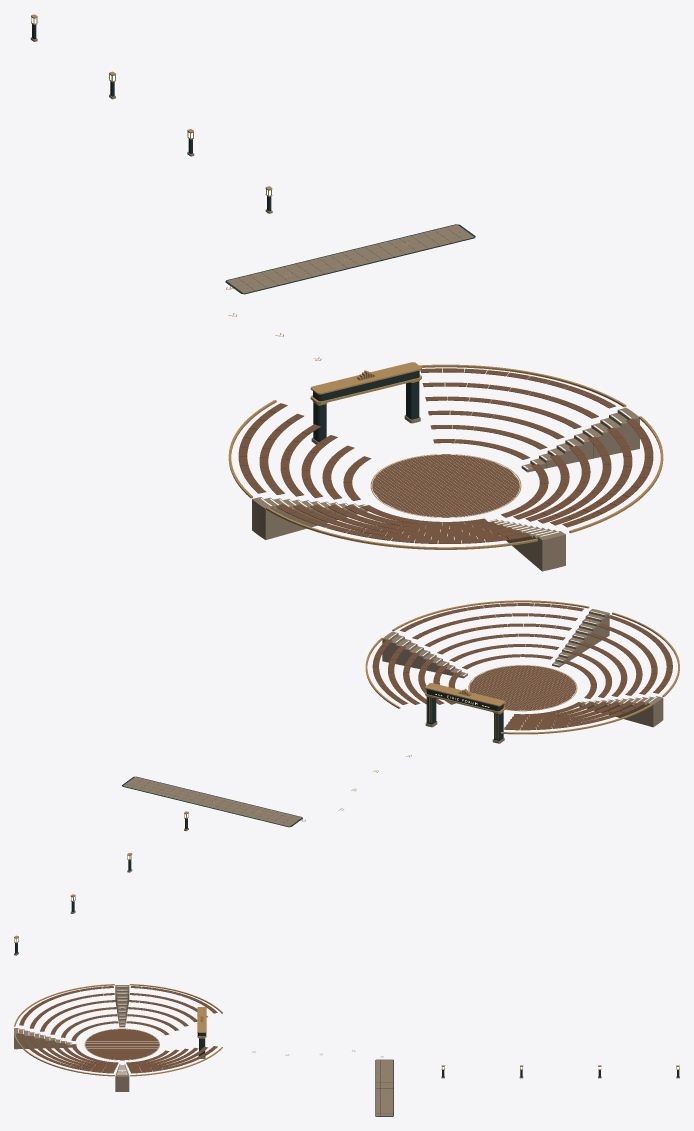
Rendered from west-forum-promenade.glb.
3 renders of one model, top to bottom at view 1: azimuth 30°, elevation 25°; view 2: azimuth 150°, elevation 25°; view 3: azimuth 270°, elevation 25°, orthographic. The views are drawn at different scales.
Visible parts, largest first — view 1: Forum auditorium trim, West promenade paving; view 2: Forum auditorium trim, West promenade paving; view 3: Forum auditorium trim, West promenade paving.
Part boxes in pixels (box(x1,y1,x2,y2)): Forum auditorium trim: box(228, 362, 663, 571); West promenade paving: box(225, 224, 475, 360); Forum auditorium trim: box(365, 600, 679, 743); West promenade paving: box(122, 755, 411, 827); Forum auditorium trim: box(14, 984, 222, 1091); West promenade paving: box(252, 1050, 393, 1116).
Bounding box in the file's own units: 34.8 × 4.4 × 85.08.
